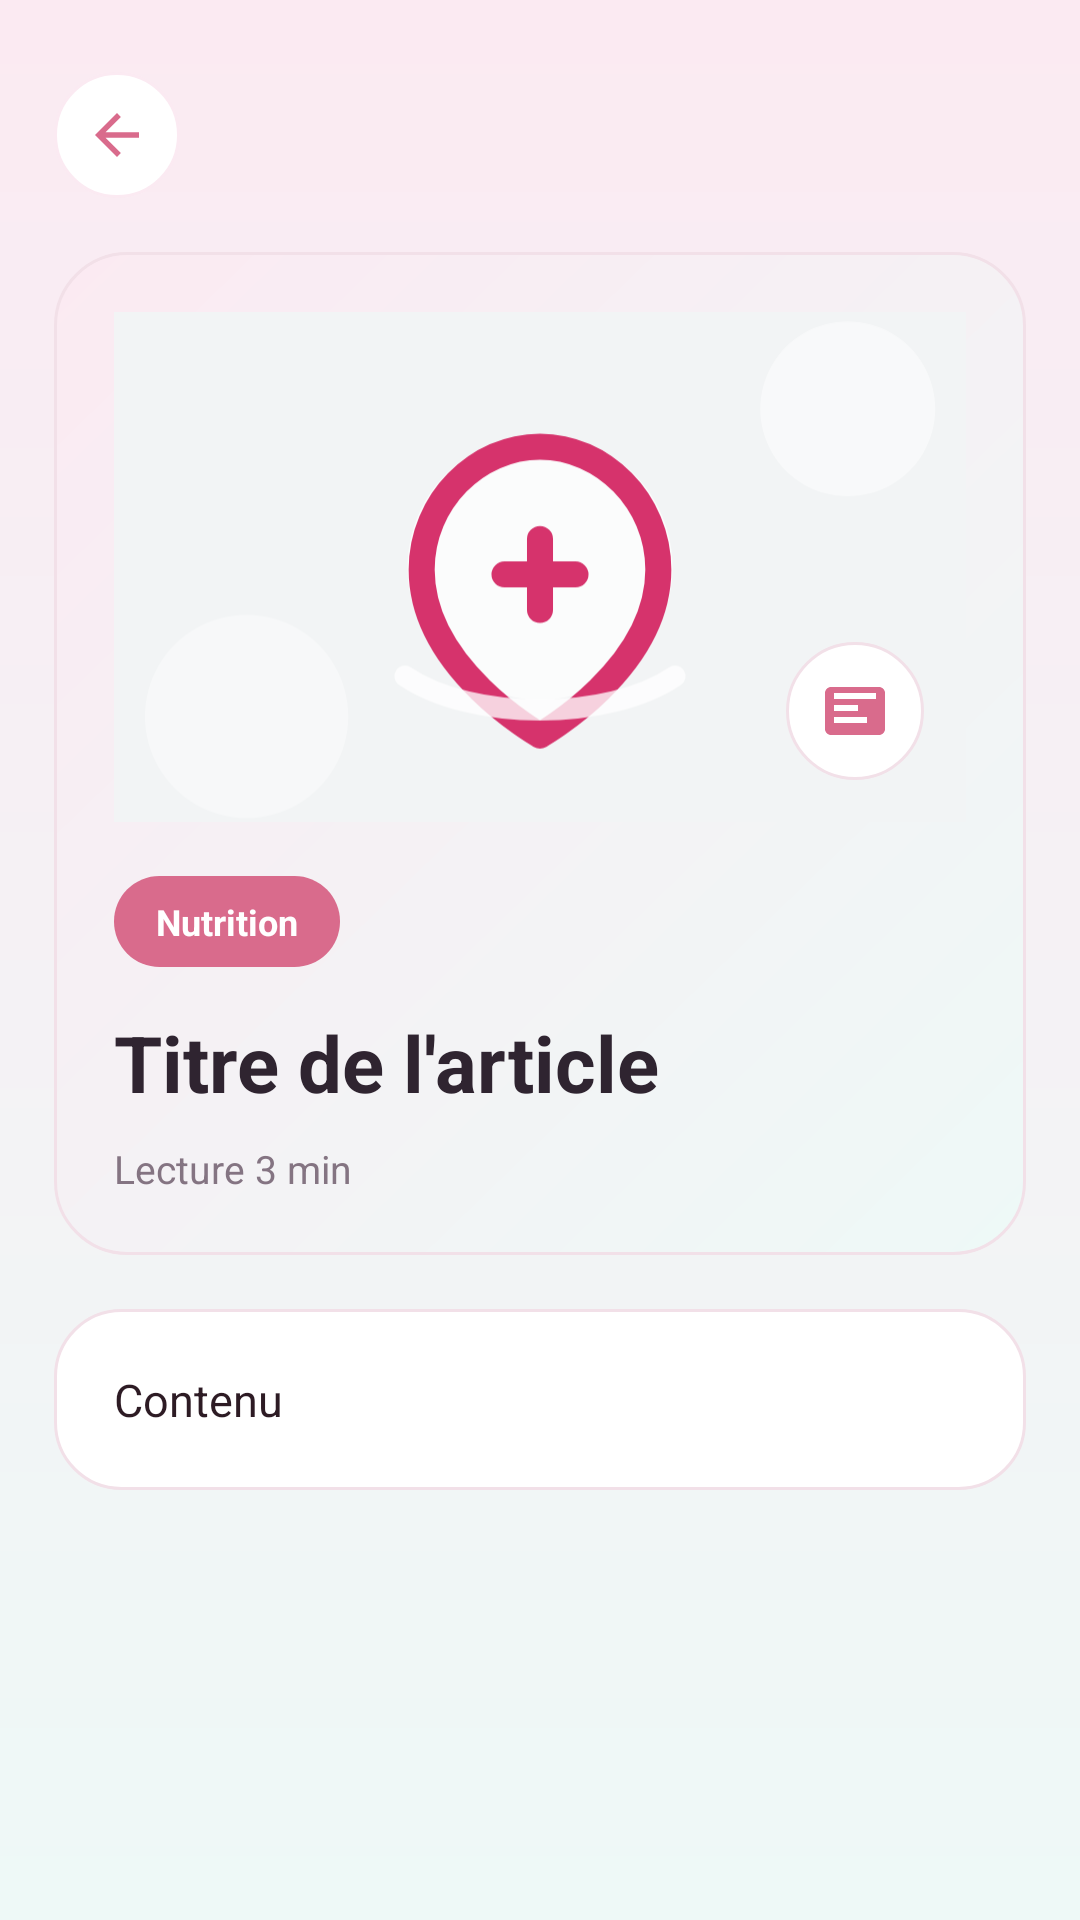

Icon click points for this 1080 × 1920 phone screenshot, format (x,y):
Retour: (117,135)
